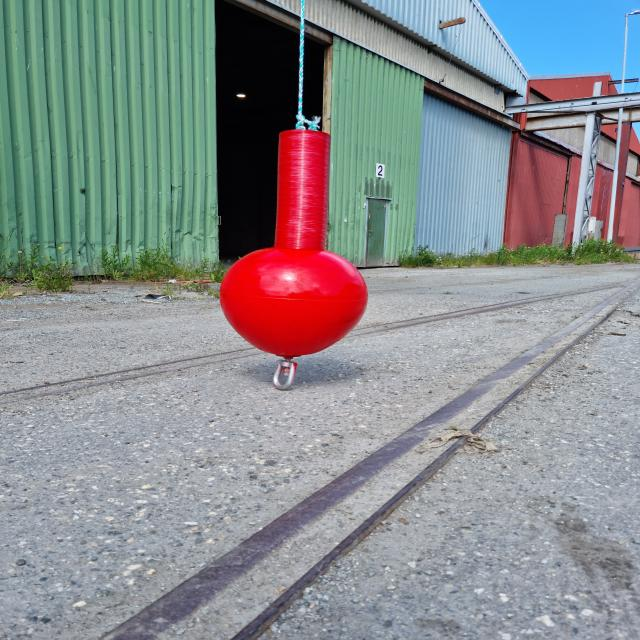red: (218, 132, 368, 358)
